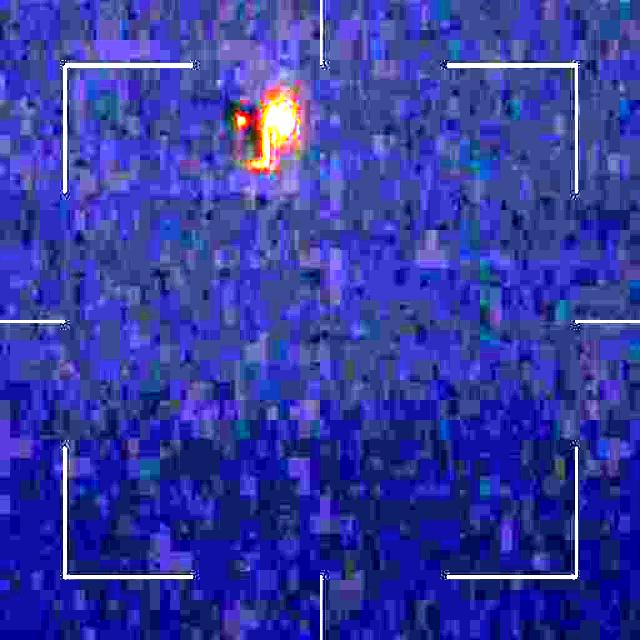bird: (222, 92, 295, 170)
